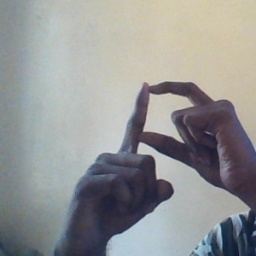D: (99, 78, 237, 194)
